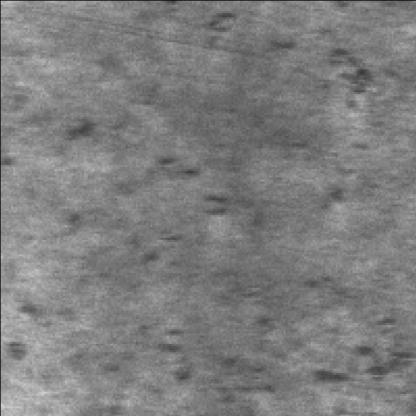rolled-in_scale: (46, 23, 374, 241), (92, 322, 414, 392), (0, 85, 156, 173)
